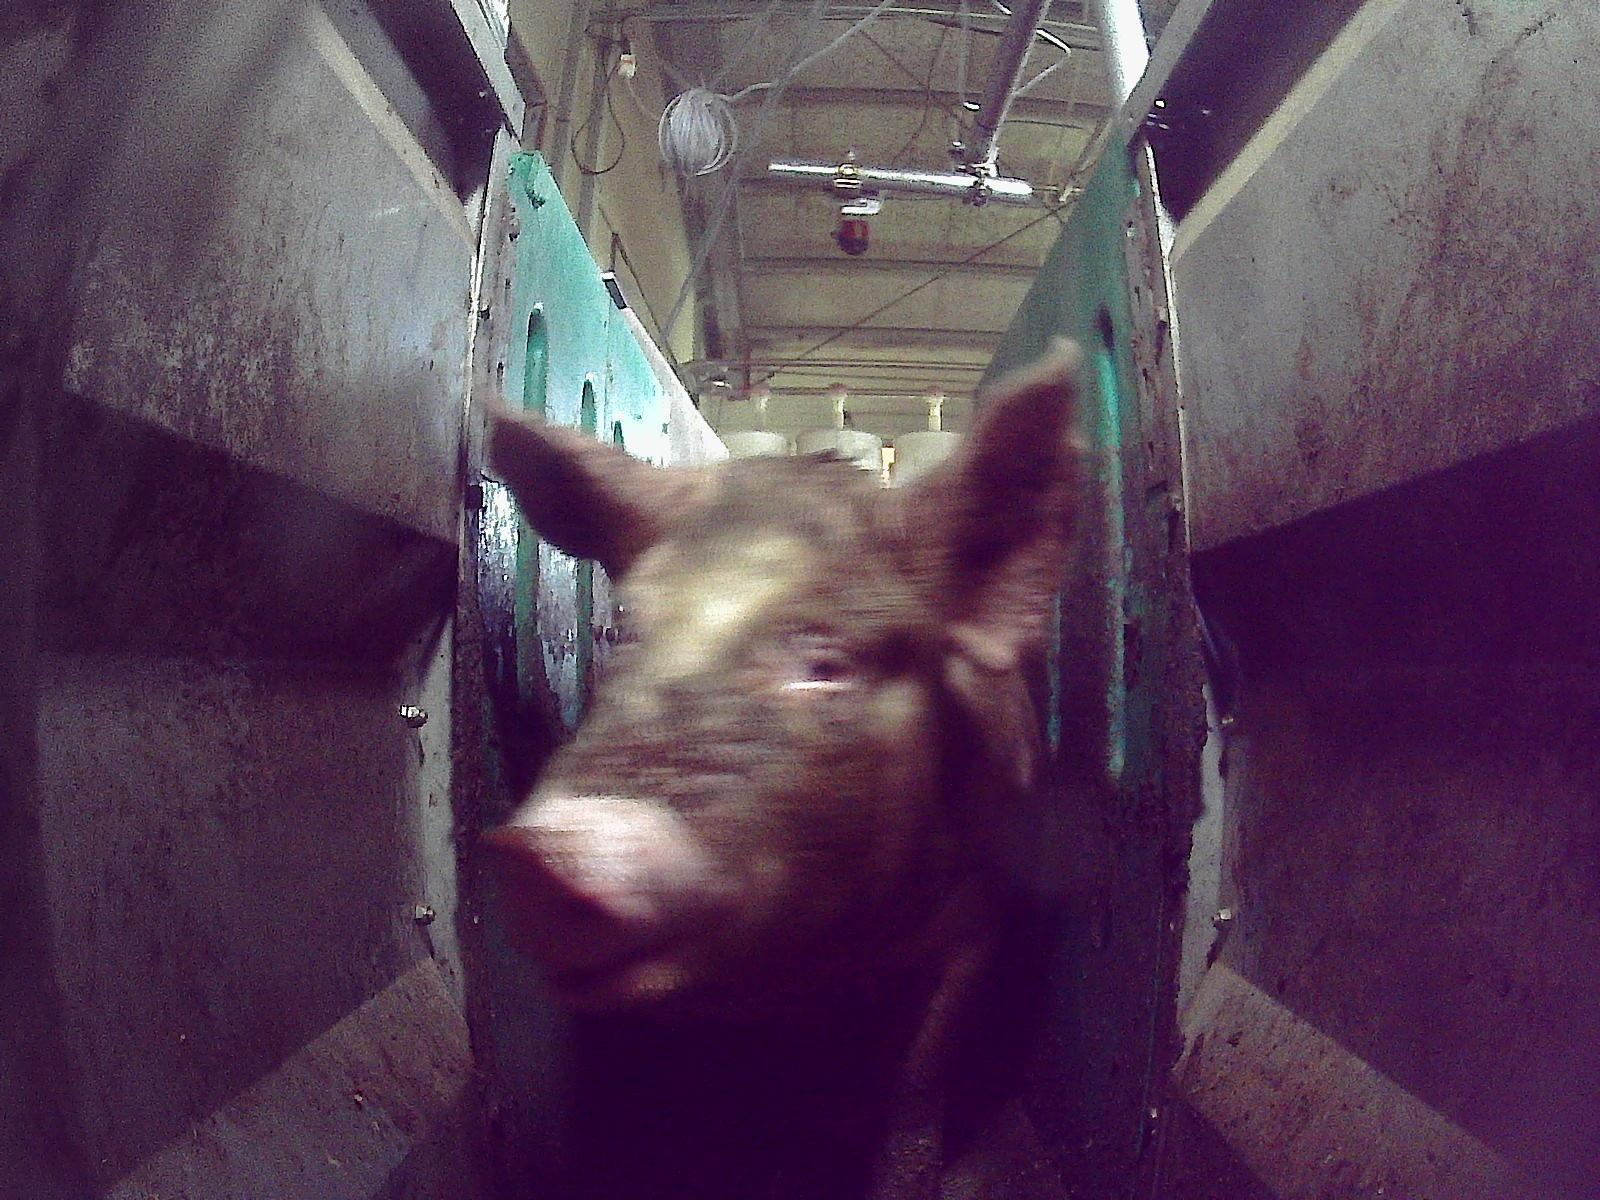Face: (479, 457, 943, 1001)
